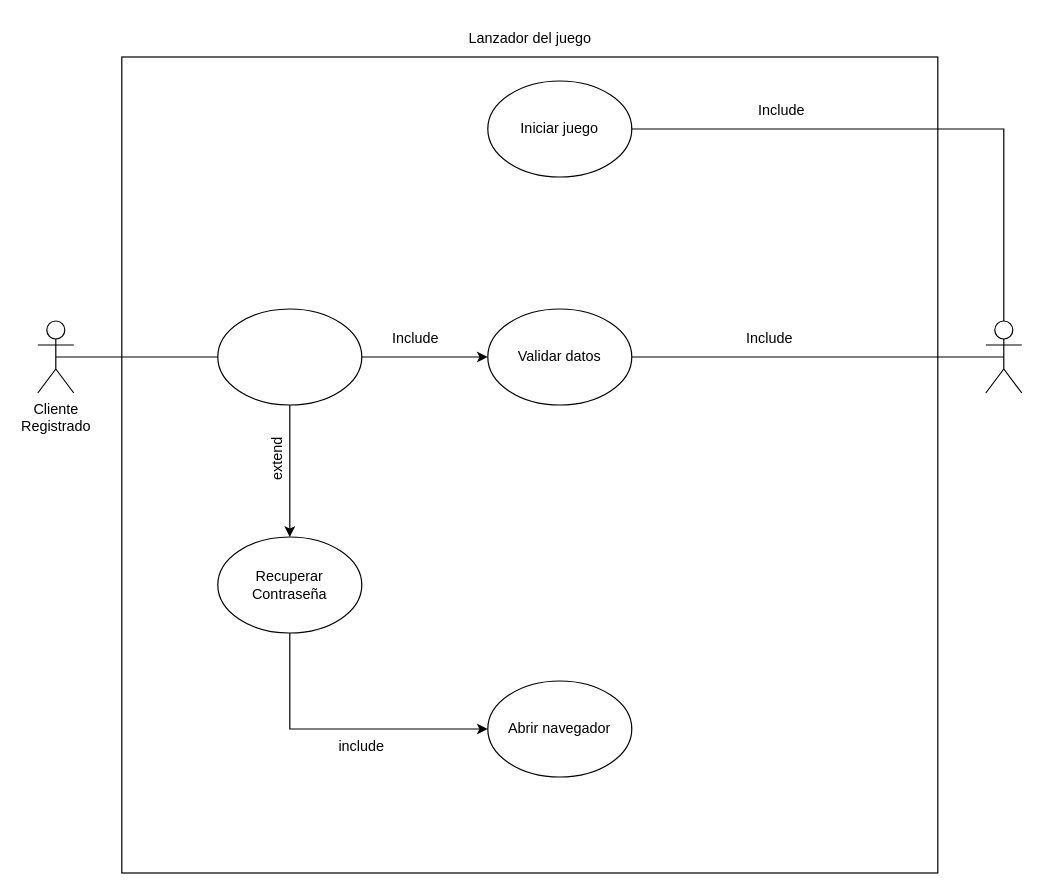
The diagram is 1043 pixels wide and 894 high, and some of its shapes have lost their labels. Here are the shapes that lost their labels. From the top down, the box of each, then its label:
(217, 308, 362, 405): Iniciar sesion
(985, 320, 1022, 393): BD
